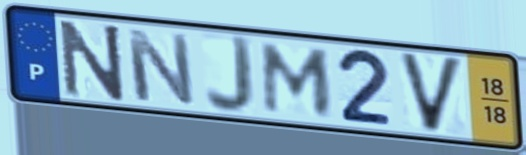2: (333, 45, 398, 133)
J: (202, 32, 257, 118)
M: (261, 40, 335, 119)
N: (122, 26, 199, 109), (56, 17, 129, 102)
V: (395, 49, 467, 137)
